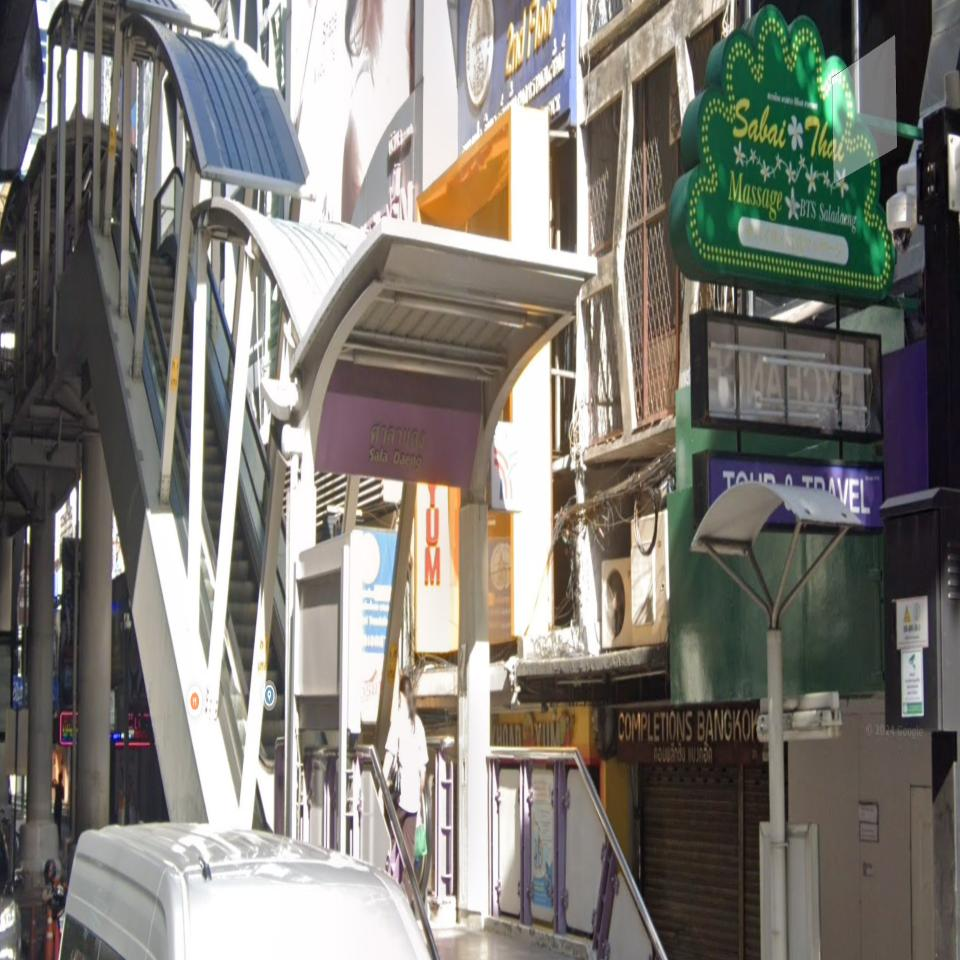Sala Daeng: (317, 390, 525, 512), (317, 390, 482, 490)
